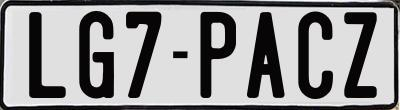7: (123, 12, 160, 100)
A: (244, 12, 285, 101)
C: (297, 8, 336, 99)
G: (78, 10, 118, 104)
L: (28, 12, 70, 99)
P: (197, 11, 233, 97)
Z: (343, 11, 379, 103)
